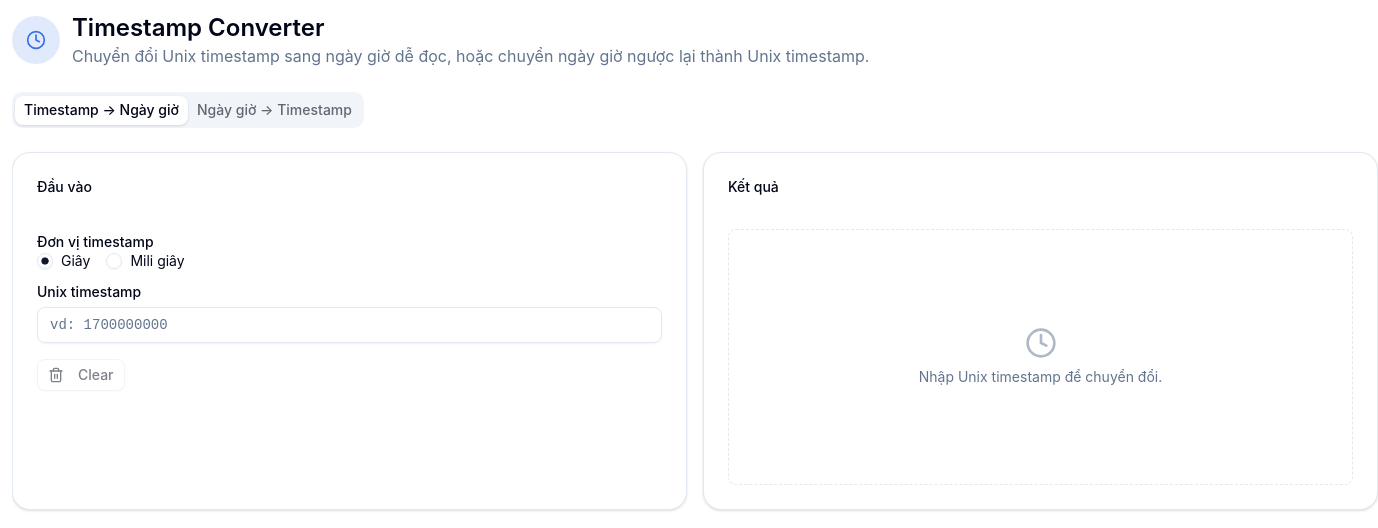
Test case: TimestampConverterScreen › shows an error for an unrecognized date string
Click the tab "Ngày giờ → Timestamp".
click(274, 110)  # box x1=188 y1=96 x2=361 y2=124
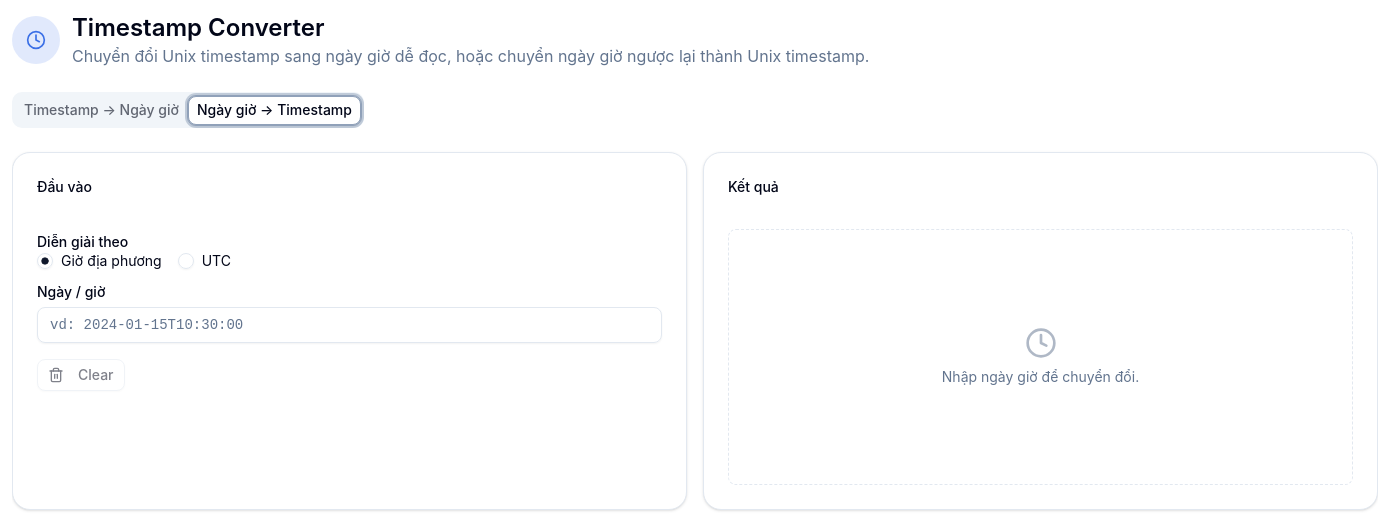
Type "not a date" into the field labelled "Ngày / giờ".
click(350, 325); type("not a date")  # box x1=37 y1=307 x2=662 y2=343
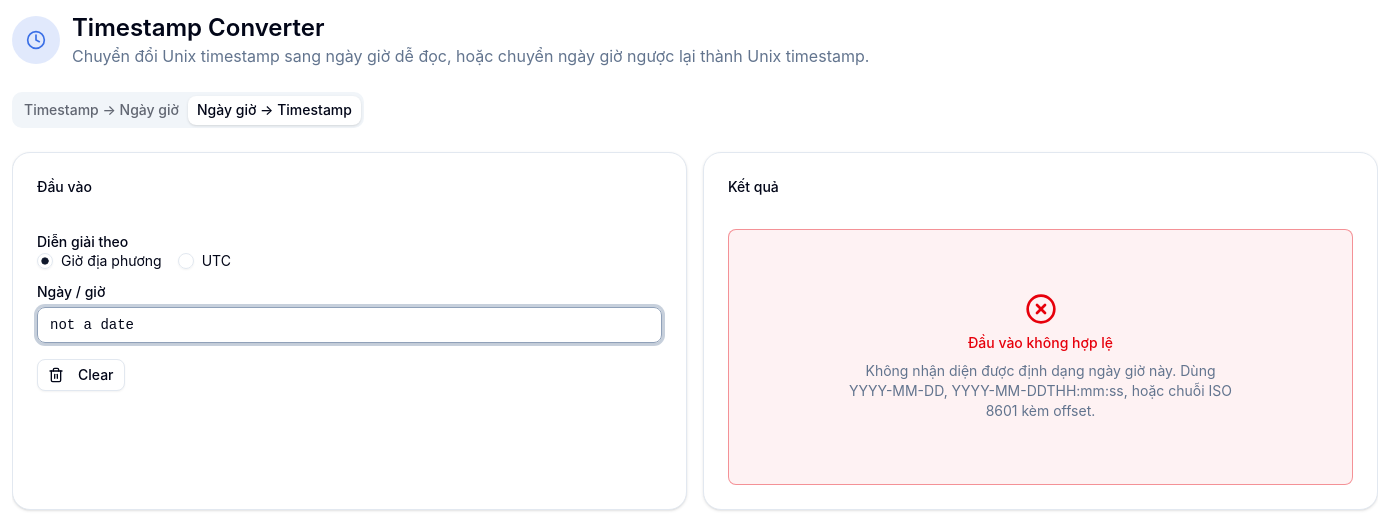
Expected: the text "Đầu vào không hợp lệ" is shown, x1=968 y1=333 x2=1113 y2=353
